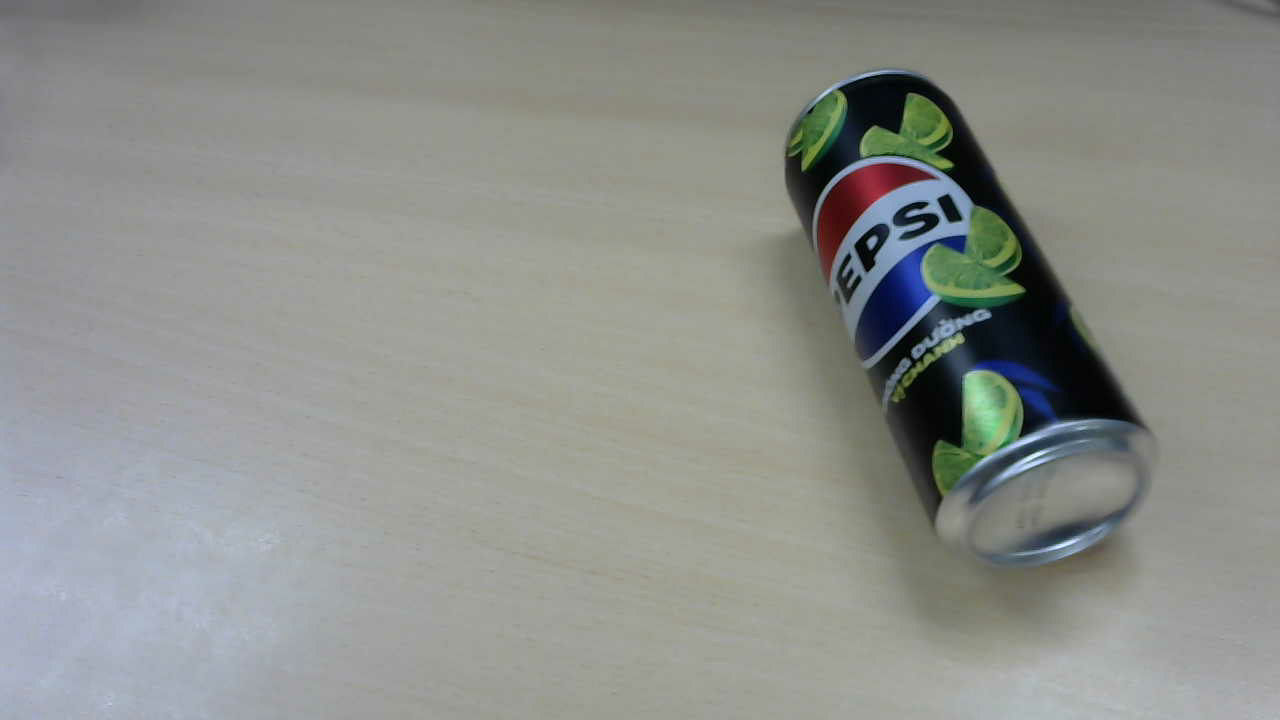Pepsi: (777, 71, 1157, 574)
